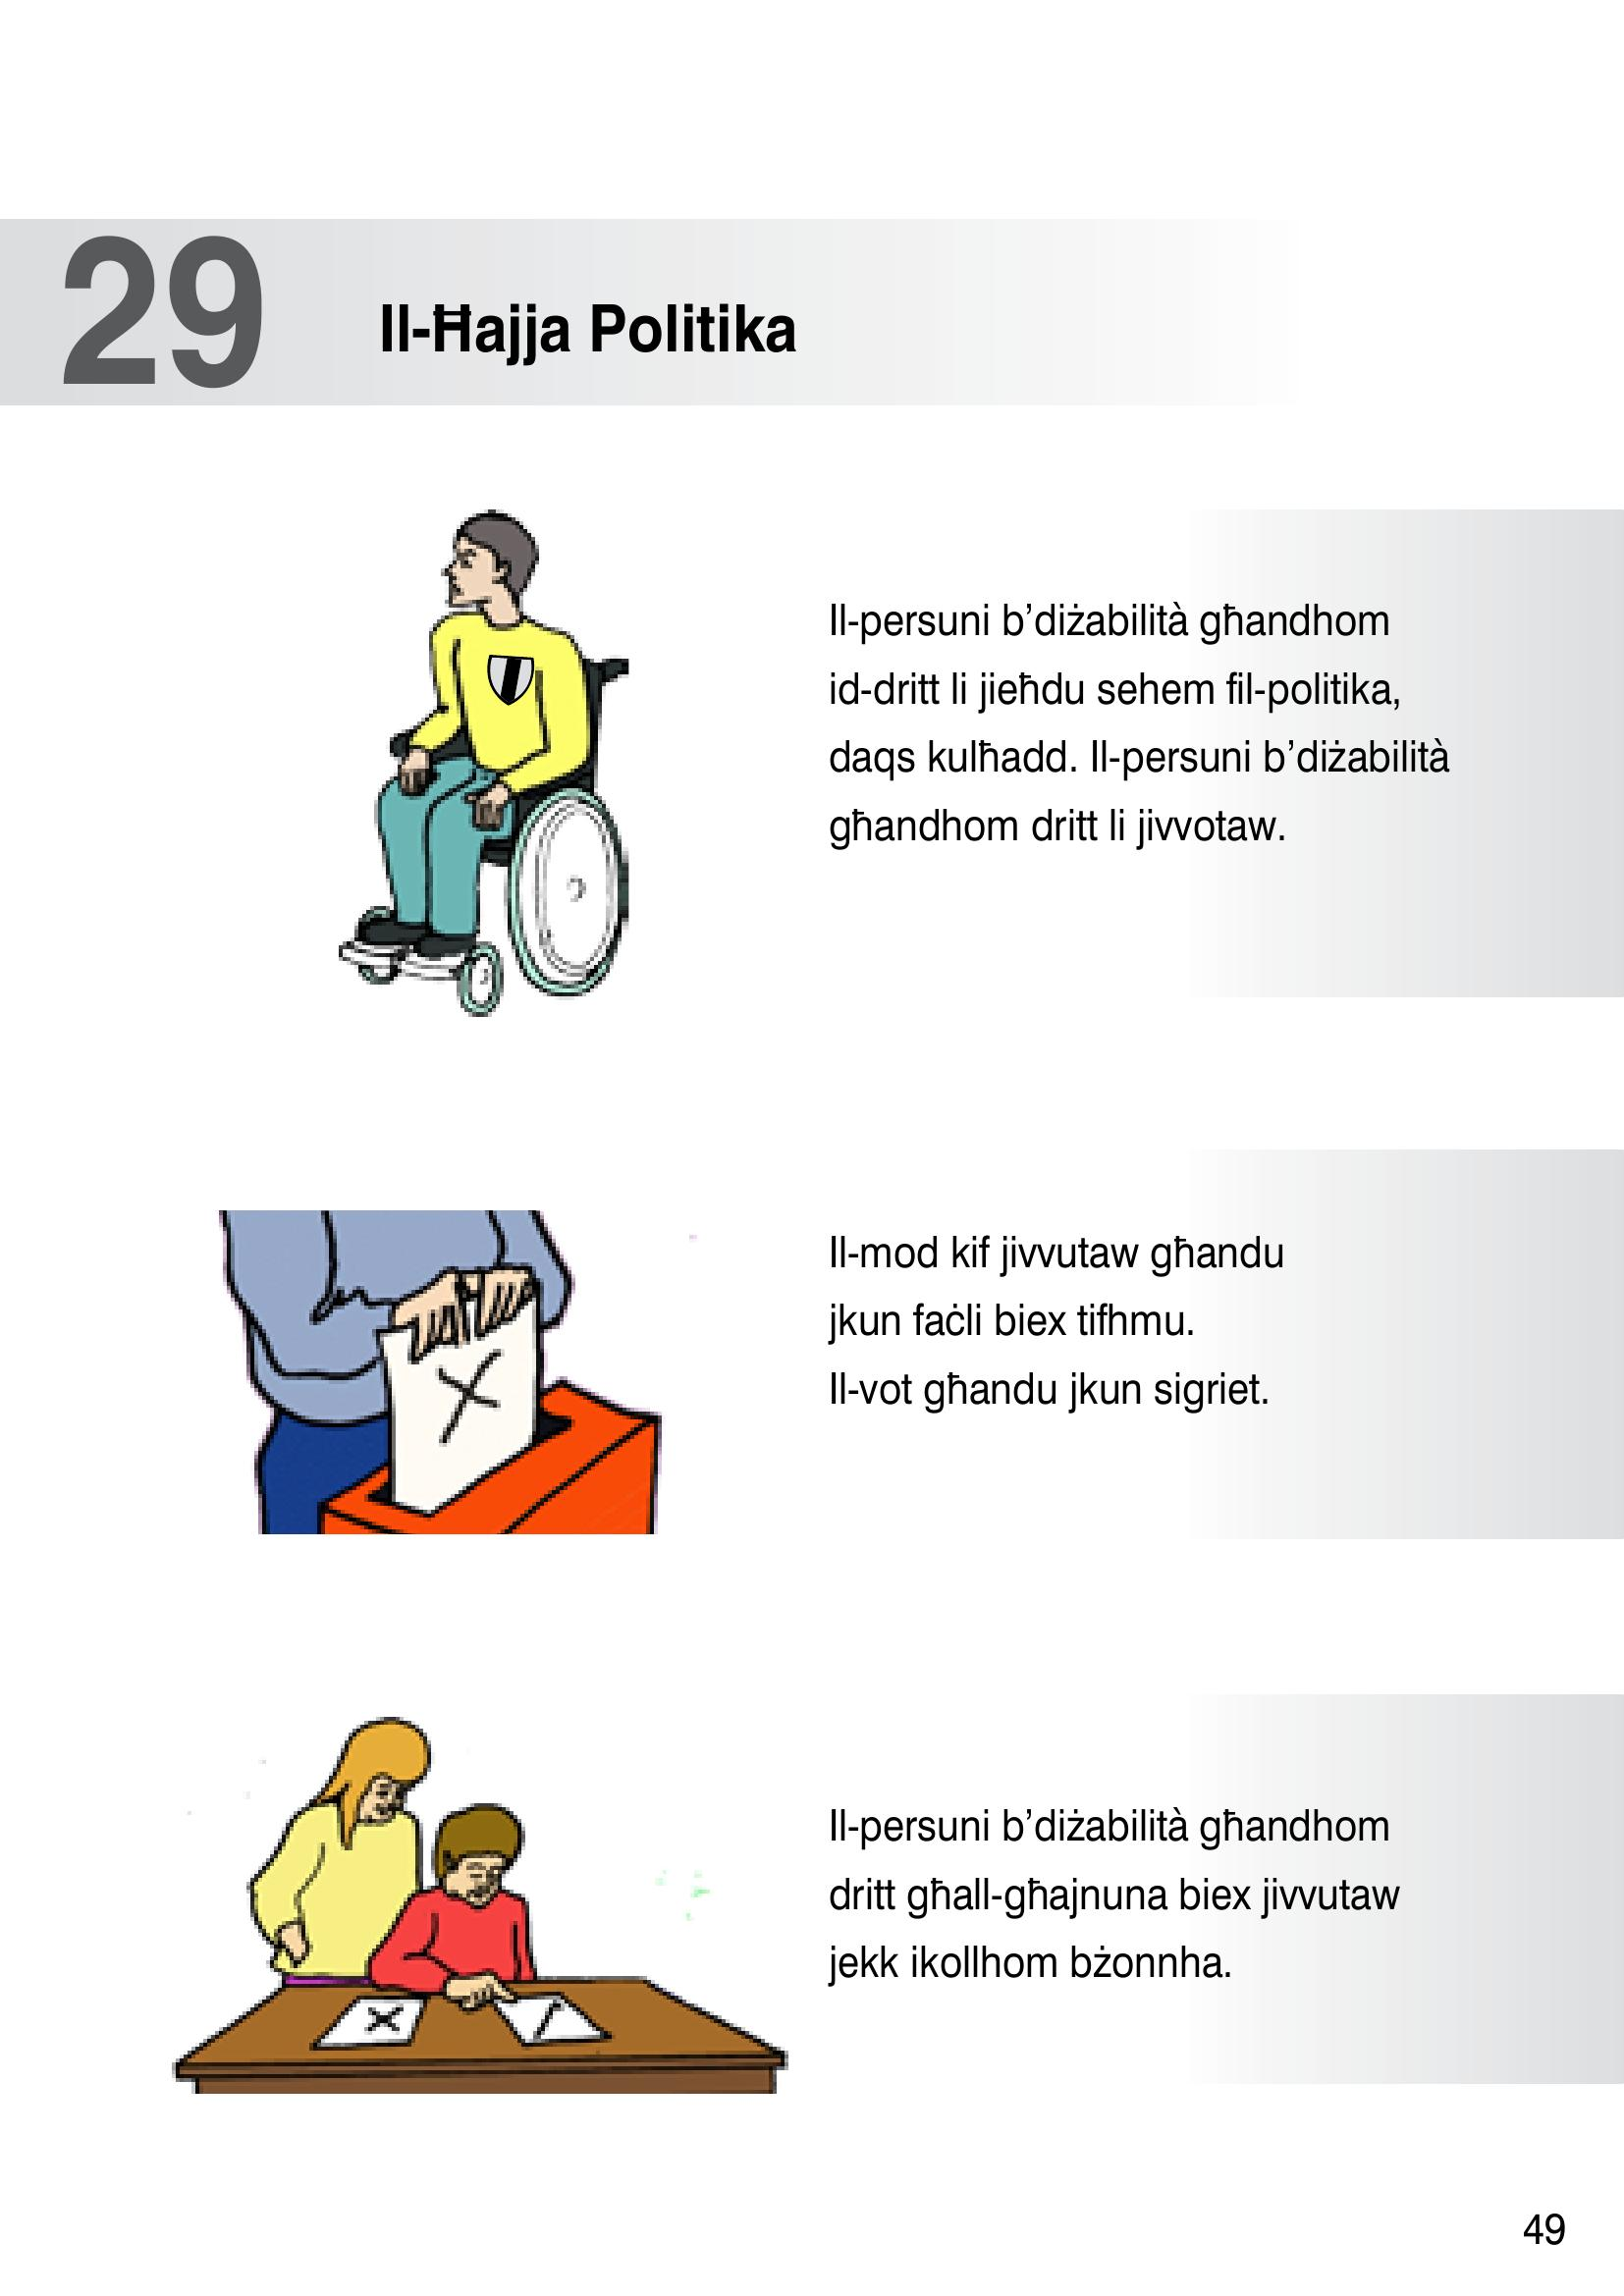text: (793, 550, 1471, 2008), (32, 227, 835, 399)
